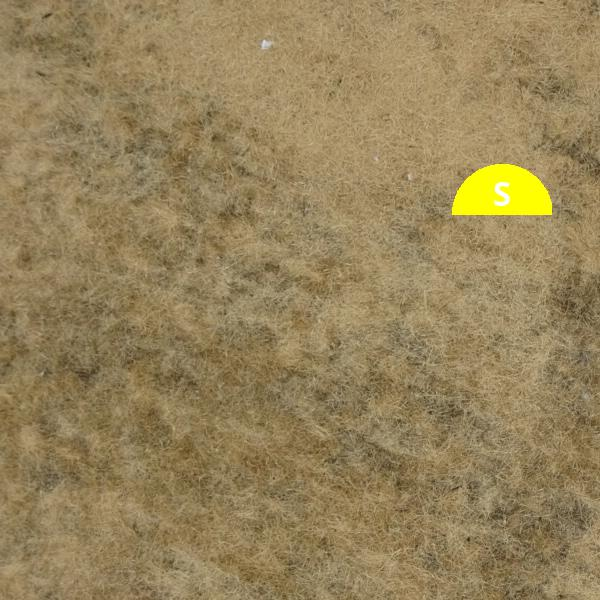SemiCircle: (452, 139, 552, 239)
